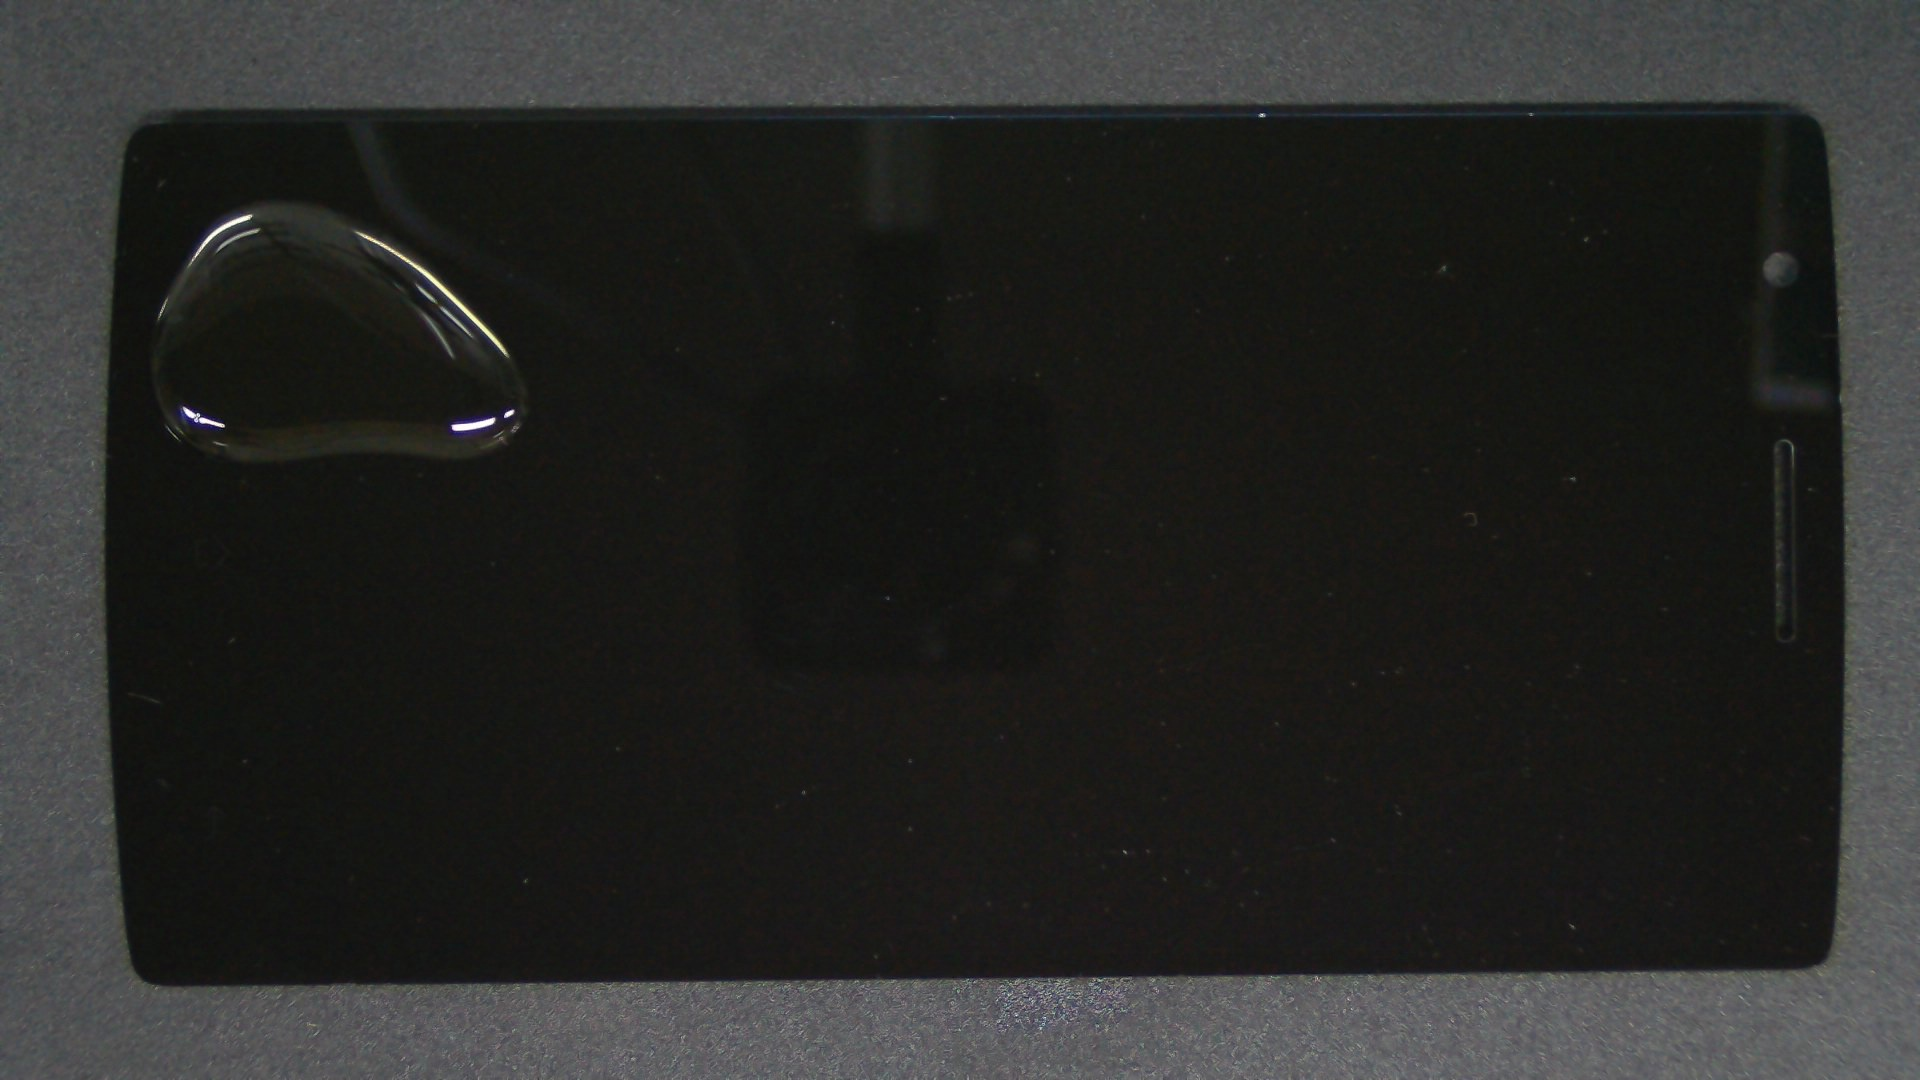oil: (141, 99, 421, 301)
